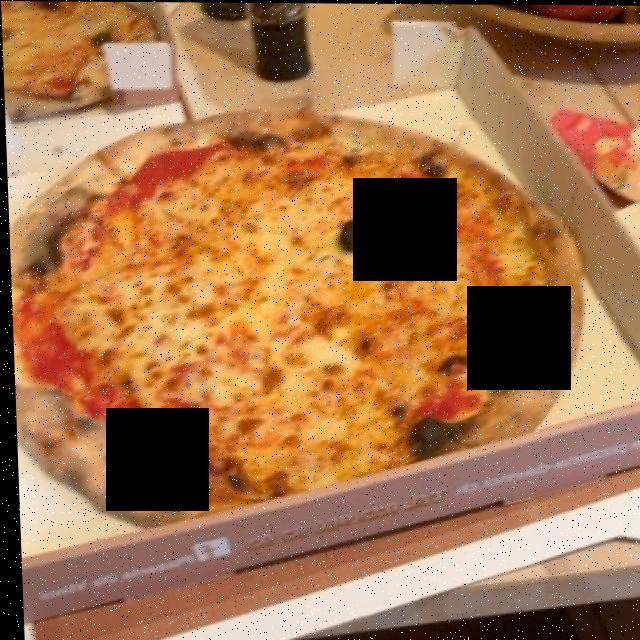pizza: (12, 5, 577, 532)
